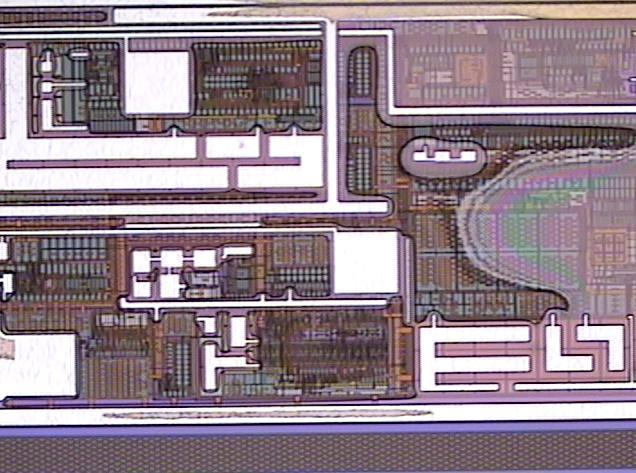COATING BAD: (1, 5, 636, 427)
